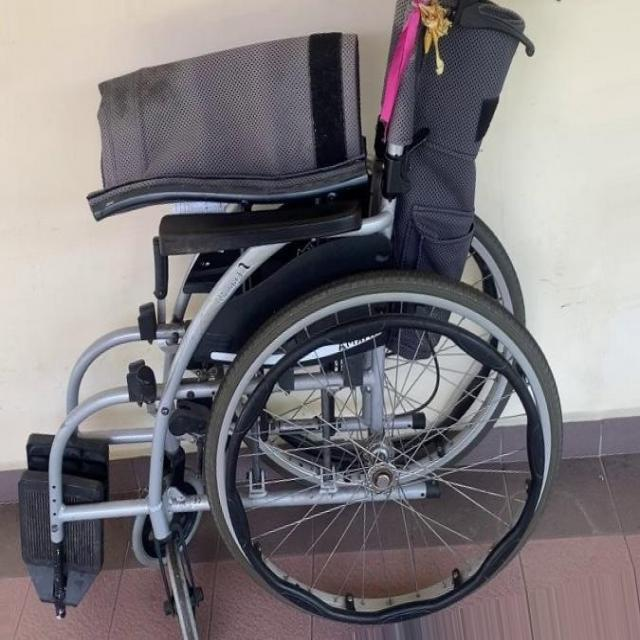wheelchair: (24, 0, 590, 640)
